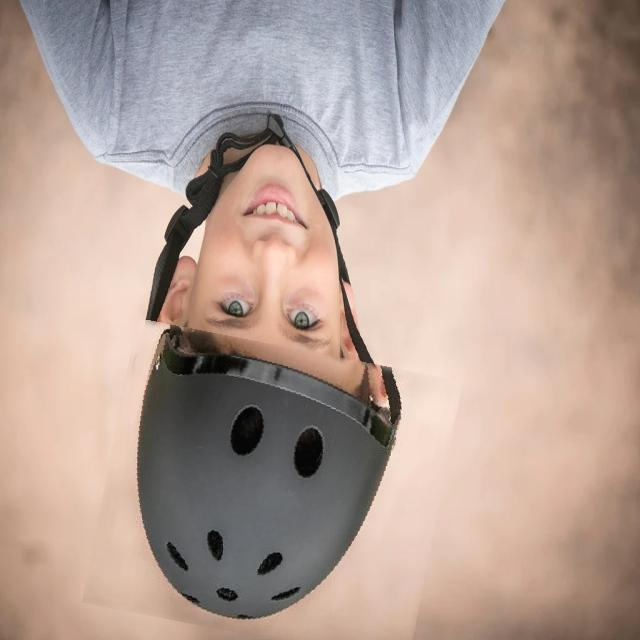helmet: (94, 333, 451, 640)
